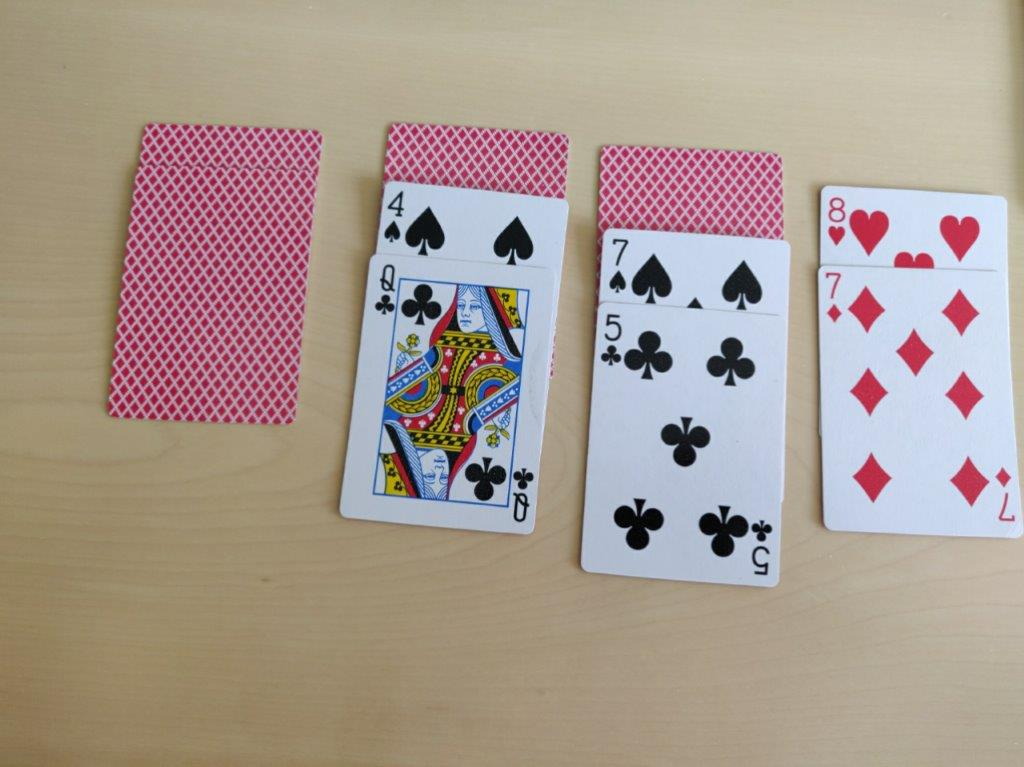4S: (382, 188, 406, 249)
5C: (599, 311, 625, 368)
7D: (821, 270, 844, 325)
7S: (605, 234, 631, 299)
8H: (824, 191, 848, 248)
BACK: (108, 165, 319, 430), (601, 143, 784, 239), (380, 118, 574, 197), (133, 118, 322, 165)
QC: (372, 260, 400, 321)
